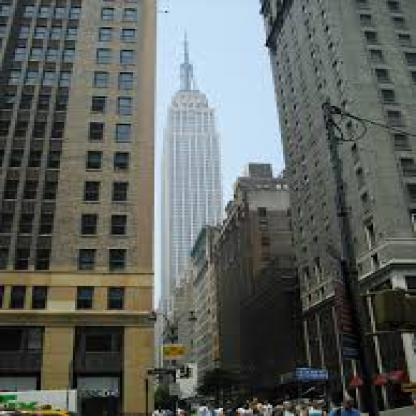Empire-State-building: (158, 16, 224, 224)
